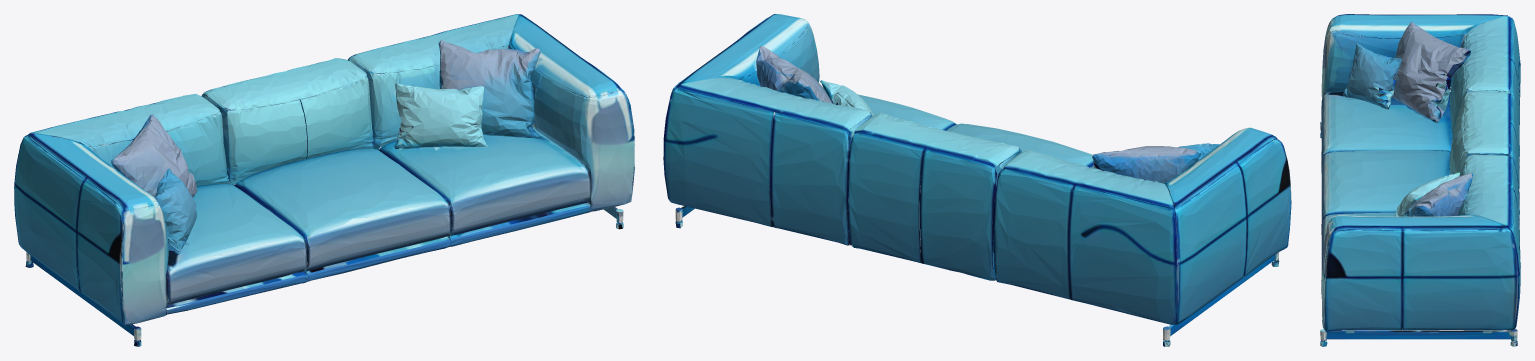
Rendered from edited_mesh.glb.
3 views of the same model, side by side, from view 1: azimuth 30°, elevation 25°; view 2: azimuth 150°, elevation 25°; view 3: azimuth 270°, elevation 25° (orthographic). The views are drawn at different scales.
Parts seen in each view (by area): view 1: solid_001_wire; view 2: solid_001_wire; view 3: solid_001_wire.
Part boxes in pixels (left/top/right/bottom): solid_001_wire: left=14, top=14, right=634, bottom=346; solid_001_wire: left=663, top=14, right=1291, bottom=346; solid_001_wire: left=1320, top=14, right=1520, bottom=346.
Size of the model in its own units: 2 by 0.5532 by 0.7635.
1 material, 1 textured.
